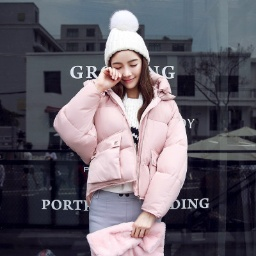face: (99, 41, 158, 101)
